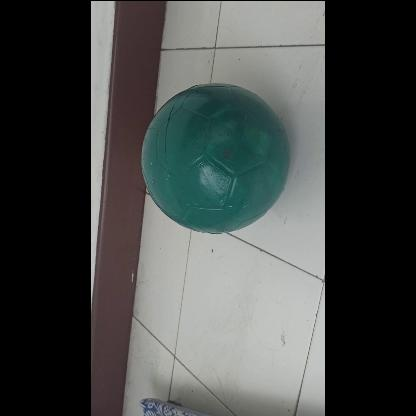green_ball: (141, 83, 289, 231)
